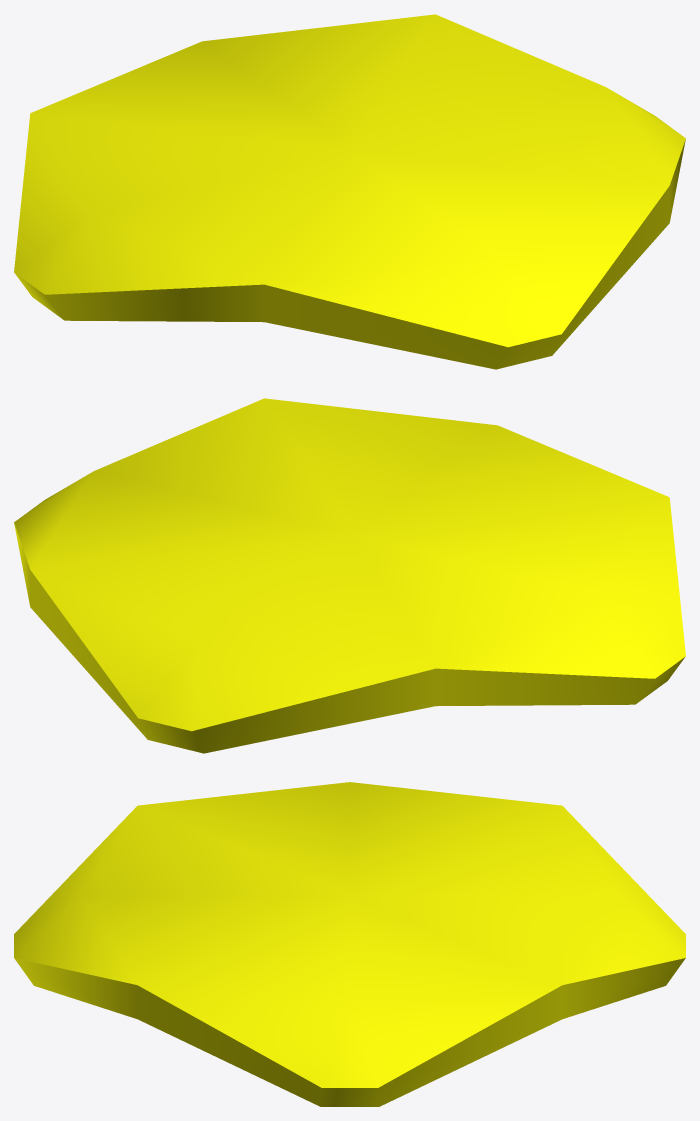
File: food_ingredient_cheese_slice.gltf
3 views of the same model, one above another, from view 1: azimuth 30°, elevation 25°; view 2: azimuth 150°, elevation 25°; view 3: azimuth 270°, elevation 25° (orthographic). The views are drawn at different scales.
Parts seen in each view (by area): view 1: food_ingredient_cheese_slice; view 2: food_ingredient_cheese_slice; view 3: food_ingredient_cheese_slice.
Part boxes in pixels (box(x1,y1,x2,y2)): food_ingredient_cheese_slice: box(14, 14, 685, 369); food_ingredient_cheese_slice: box(14, 398, 685, 753); food_ingredient_cheese_slice: box(14, 782, 685, 1106).
Size of the model in its own units: 0.8243 by 0.1055 by 0.8243.
1 material, 1 textured.
